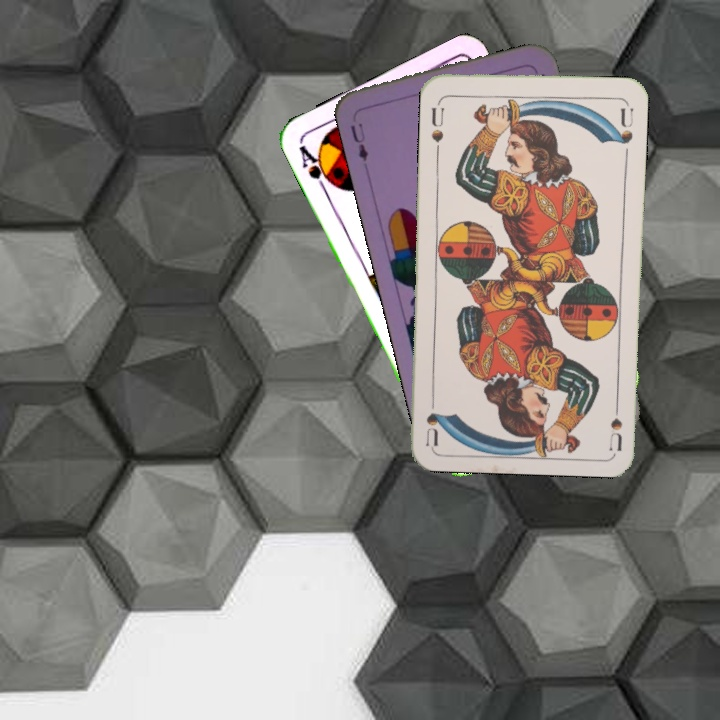EU: (346, 119, 371, 164)
SA: (294, 141, 338, 195)
SU: (605, 392, 625, 451), (427, 103, 446, 145)
